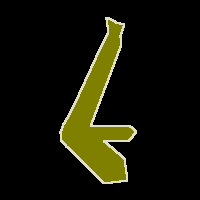tie: (60, 17, 136, 183)
